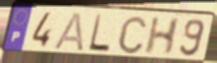4: (30, 11, 53, 50)
9: (178, 18, 206, 58)
A: (52, 11, 85, 53)
C: (116, 14, 149, 56)
H: (142, 17, 183, 57)
L: (87, 13, 112, 54)
